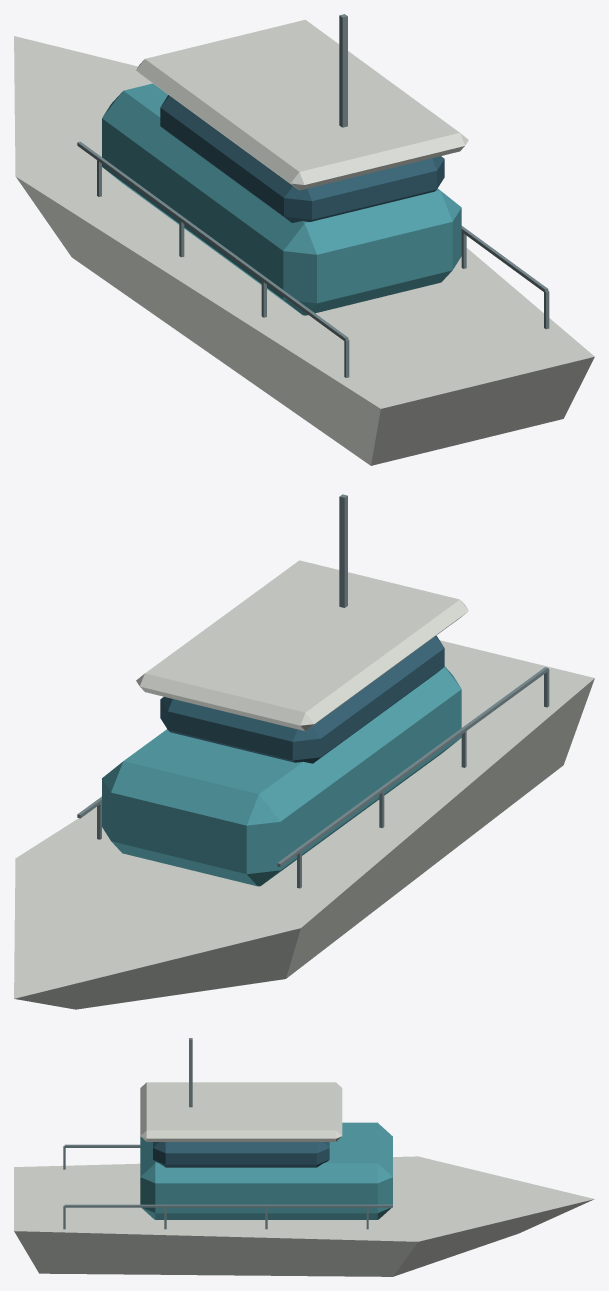
The model's file is yacht.glb.
The picture shows the model from 3 angles, top to bottom: view 1: azimuth 30°, elevation 25°; view 2: azimuth 150°, elevation 25°; view 3: azimuth 270°, elevation 25°; orthographic projection. The views are drawn at different scales.
Parts seen in each view (by area): view 1: Hull, Cube, Cube.001, Cube.003; view 2: Hull, Cube, Cube.001, Cube.003; view 3: Hull, Cube, Cube.001, Cube.003.
Part boxes in pixels (x1,y1,x2,y2): Hull: (14, 19, 594, 465); Cube: (102, 83, 461, 315); Cube.001: (160, 95, 444, 222); Cube.003: (77, 14, 549, 377); Hull: (14, 560, 594, 1009); Cube: (102, 666, 461, 886); Cube.001: (160, 635, 444, 763); Cube.003: (77, 494, 549, 888); Hull: (14, 1082, 594, 1276); Cube: (140, 1122, 392, 1219); Cube.001: (153, 1142, 329, 1167); Cube.003: (63, 1038, 392, 1229).
Size of the model in its own units: 8 by 9 by 23.
